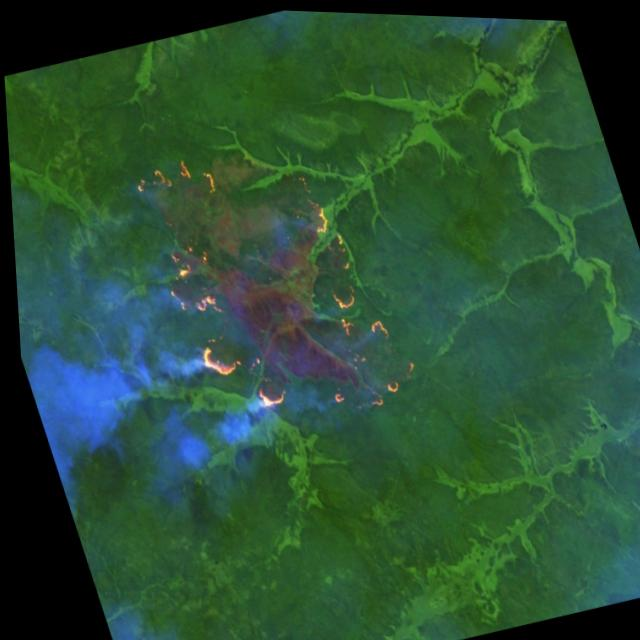fire: (264, 179, 424, 425), (117, 141, 260, 330), (187, 324, 292, 431)
